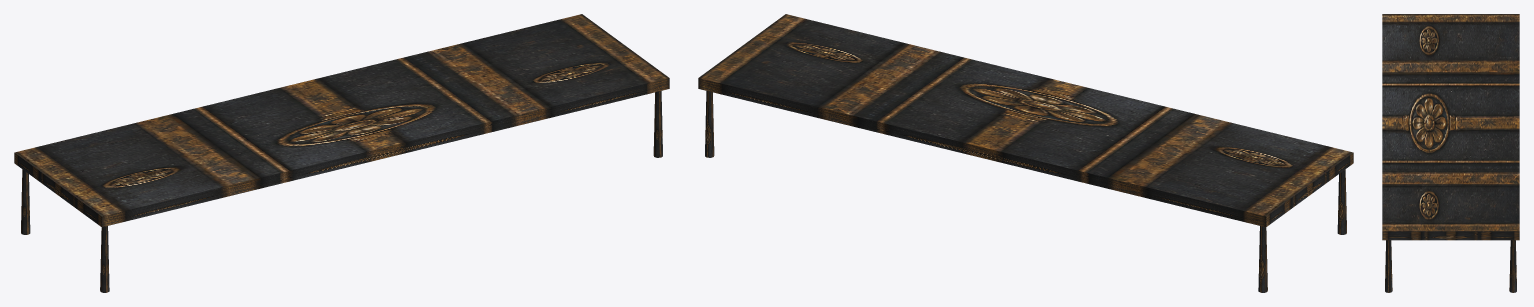
File: conference-table.gltf
3 renders of one model, left to right at view 1: azimuth 30°, elevation 25°; view 2: azimuth 150°, elevation 25°; view 3: azimuth 270°, elevation 25°, orthographic. The views are drawn at different scales.
Parts seen in each view (by area): view 1: kit:0:furniture:mahogany:; view 2: kit:0:furniture:mahogany:; view 3: kit:0:furniture:mahogany:.
Boxes of the visible parts, x1,y1,x2,y2 form: kit:0:furniture:mahogany:: (14,14,669,292); kit:0:furniture:mahogany:: (698,14,1353,292); kit:0:furniture:mahogany:: (1382,14,1519,292).
Size of the model in its own units: 6 by 0.8 by 1.6.
1 material, 1 textured.
